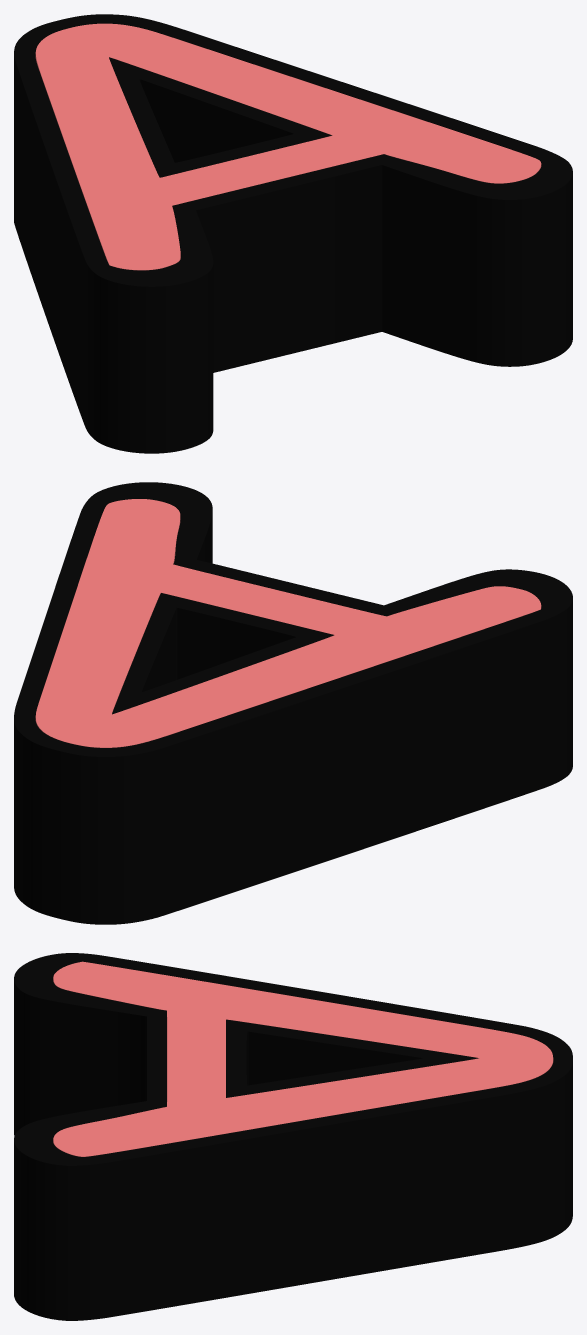
3 renders of one model, top to bottom at view 1: azimuth 30°, elevation 25°; view 2: azimuth 150°, elevation 25°; view 3: azimuth 270°, elevation 25°, orthographic. The views are drawn at different scales.
Visible parts, largest first — view 1: path3741, path3743; view 2: path3741, path3743; view 3: path3741, path3743.
Part boxes in pixels (<box>): path3741: <box>14,14,572,453</box>; path3743: <box>35,23,541,270</box>; path3741: <box>14,482,572,924</box>; path3743: <box>35,499,541,747</box>; path3741: <box>14,953,572,1320</box>; path3743: <box>53,961,553,1156</box>.
Size of the model in its own units: 0.65 by 0.2207 by 0.7212.
